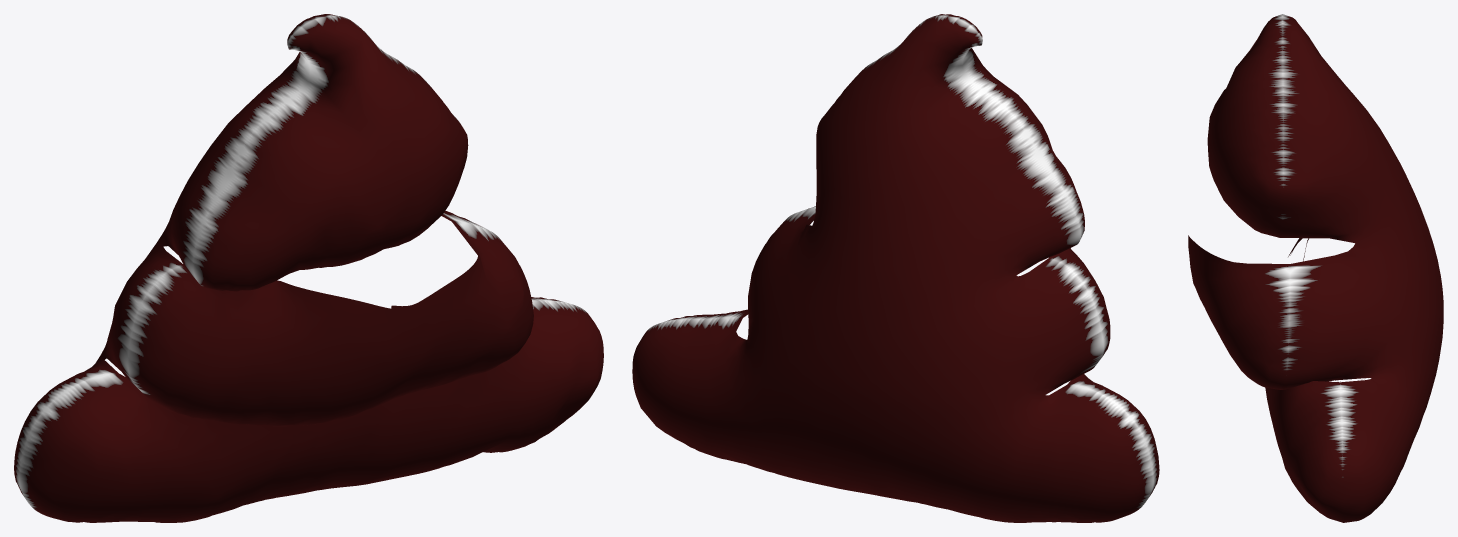
The model's file is asset.glb.
3 views of the same model, side by side, from view 1: azimuth 30°, elevation 25°; view 2: azimuth 150°, elevation 25°; view 3: azimuth 270°, elevation 25° (orthographic). The views are drawn at different scales.
Size of the model in its own units: 3.81 by 3.22 by 1.82.
Materials: 1 (1 with a texture image).
